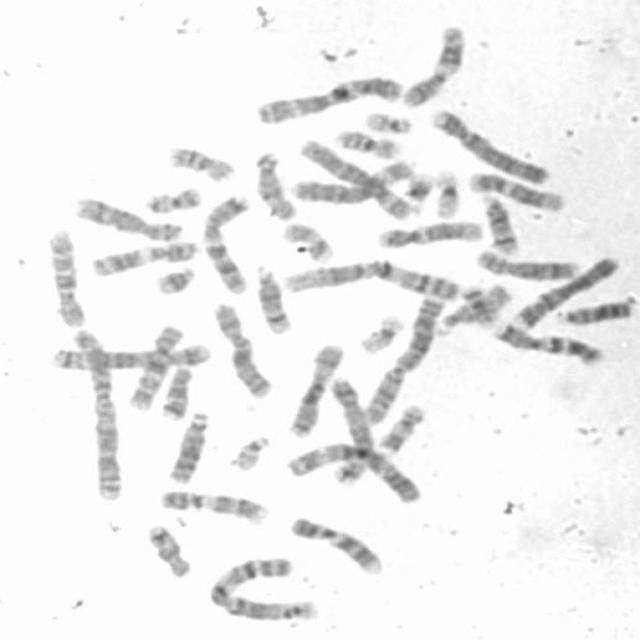A1: (281, 257, 461, 302), (205, 554, 321, 620)
A2: (359, 291, 446, 426), (68, 326, 124, 503)
A3: (281, 439, 425, 505), (251, 72, 405, 126)
B4: (426, 106, 552, 187), (506, 252, 620, 331)
B5: (326, 375, 374, 484), (47, 342, 211, 373)
C10: (122, 322, 184, 412), (45, 226, 87, 330)
C11: (396, 21, 466, 110), (87, 236, 201, 277)
C12: (465, 168, 565, 213), (372, 217, 487, 249)
C6: (294, 135, 416, 221), (288, 153, 418, 204)
C7: (196, 191, 250, 295), (490, 319, 605, 367)
C8: (71, 193, 183, 243), (472, 247, 580, 282)
C9: (285, 513, 385, 576), (157, 486, 272, 526)
D13: (164, 408, 210, 486), (552, 294, 637, 327)
D14: (251, 263, 295, 335), (477, 191, 520, 256)
D15: (432, 280, 514, 334), (250, 150, 298, 221)
E16: (164, 143, 236, 184), (332, 126, 401, 161)
E17: (374, 401, 425, 454), (281, 219, 334, 263)
E18: (143, 522, 193, 580), (156, 364, 194, 419)
F19: (356, 312, 406, 356), (430, 165, 462, 220)
F20: (456, 282, 503, 328), (143, 184, 202, 215)
G21: (150, 264, 197, 296), (398, 170, 435, 210)
G22: (226, 432, 271, 472), (359, 107, 415, 136)
X: (210, 299, 275, 400), (284, 338, 344, 439)
